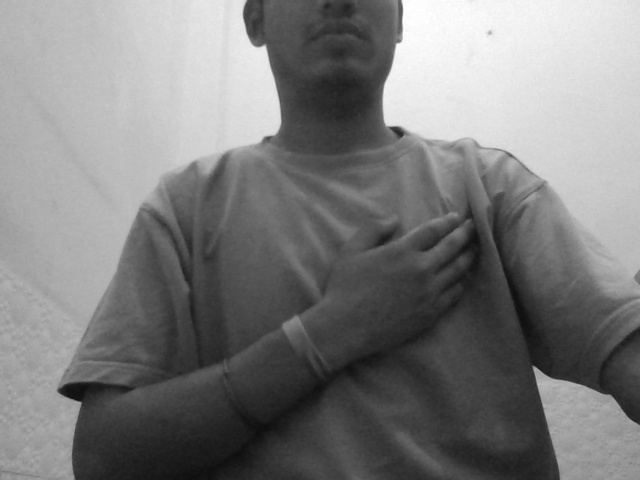Sorry: (309, 205, 525, 397)
